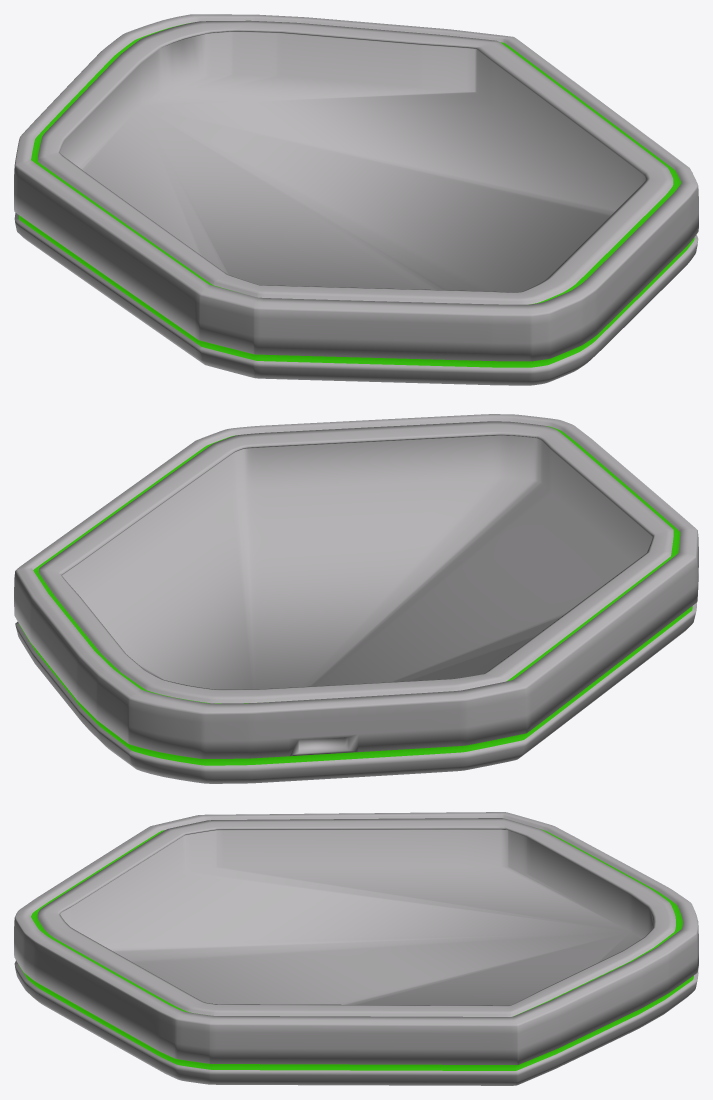
File: Bandeja.fbx
3 renders of one model, top to bottom at view 1: azimuth 30°, elevation 25°; view 2: azimuth 150°, elevation 25°; view 3: azimuth 270°, elevation 25°, orthographic. The views are drawn at different scales.
Visible parts, largest first — view 1: CestaSubdivison; view 2: CestaSubdivison; view 3: CestaSubdivison.
Boxes of the visible parts, x1=… form: CestaSubdivison: x1=14, y1=14, x2=698, y2=385; CestaSubdivison: x1=14, y1=414, x2=698, y2=783; CestaSubdivison: x1=14, y1=812, x2=698, y2=1085.
Bounding box in the file's own units: 43.01 × 58.11 × 6.6.
